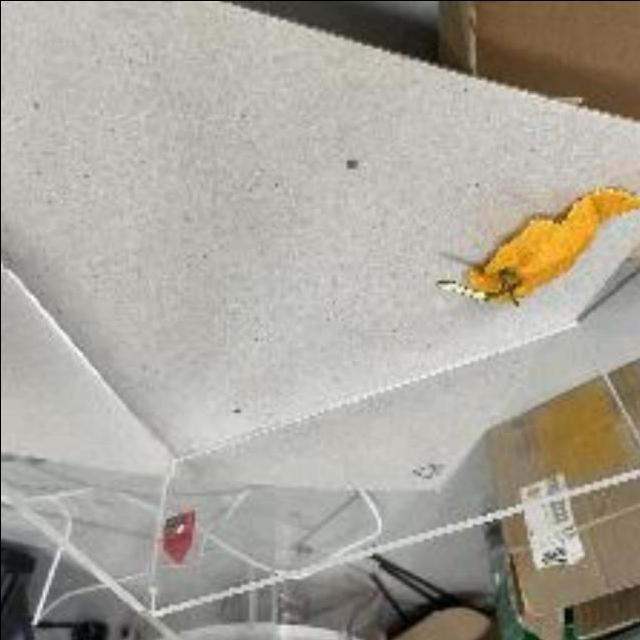orange peel: (442, 188, 629, 310)
